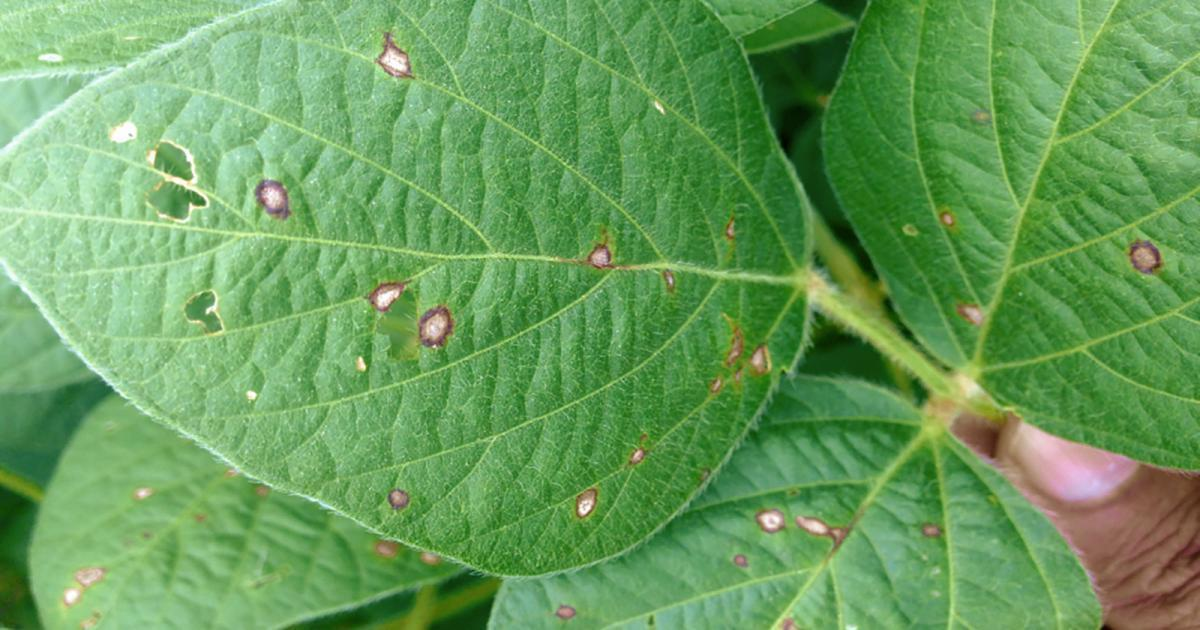black-spot: (221, 28, 540, 408)
